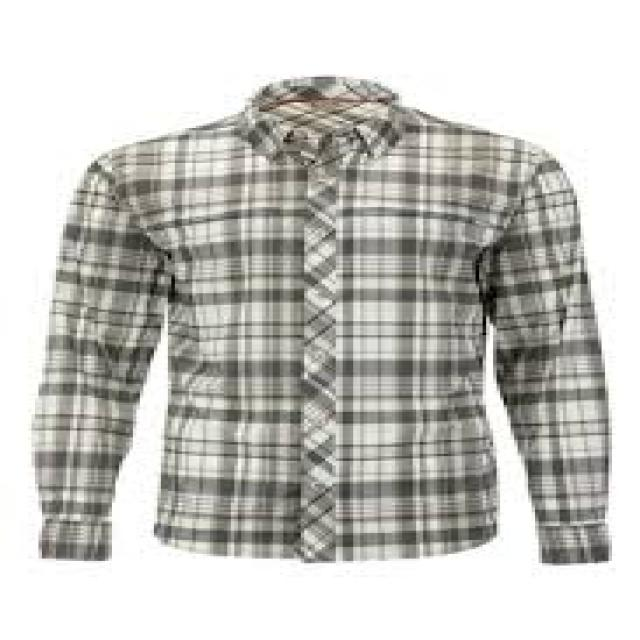plaid: (41, 78, 616, 582)
